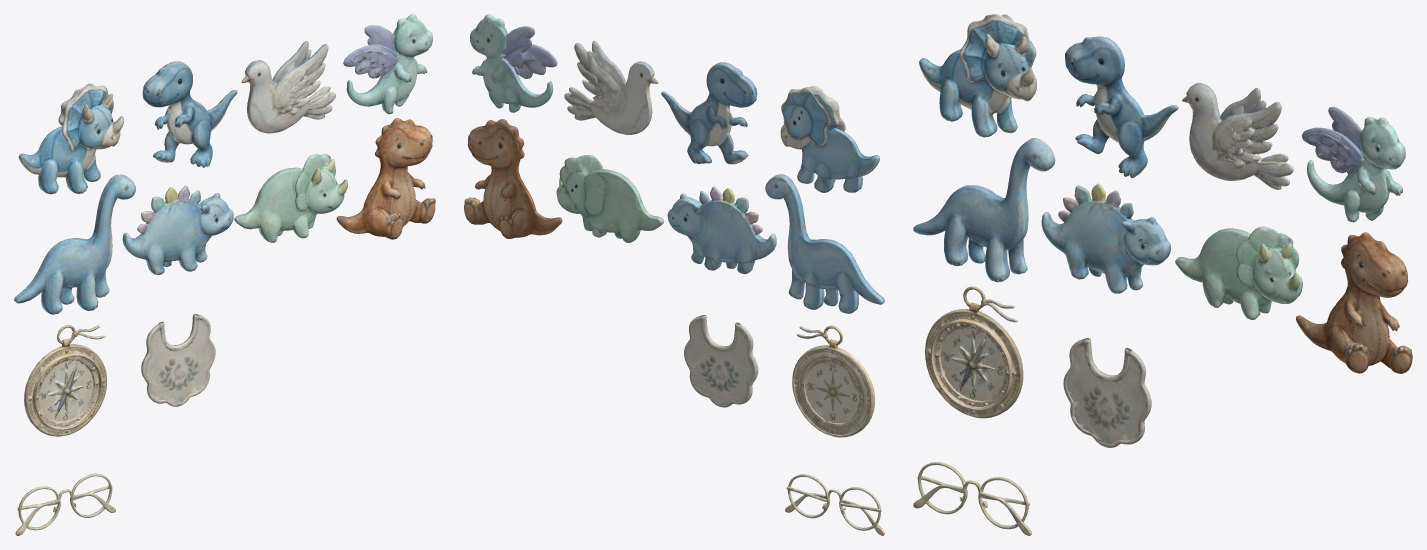
The picture shows the model from 3 angles, left to right: view 1: azimuth 30°, elevation 25°; view 2: azimuth 150°, elevation 25°; view 3: azimuth 330°, elevation 25°; orthographic projection. The views are drawn at different scales.
Visible parts, largest first — view 1: Mesh 4, Mesh 3, Mesh 1, Mesh 14, Mesh 6, Mesh 9, Mesh 10, Mesh 15, Mesh 8, Mesh 5, Mesh 2; view 2: Mesh 4, Mesh 3, Mesh 1, Mesh 14, Mesh 6, Mesh 9, Mesh 10, Mesh 15, Mesh 8, Mesh 5, Mesh 2; view 3: Mesh 3, Mesh 4, Mesh 14, Mesh 1, Mesh 6, Mesh 9, Mesh 10, Mesh 15, Mesh 8, Mesh 5, Mesh 2.
Part boxes in pixels (box(x1,y1,x2,y2)): Mesh 4: box(24, 325, 106, 436); Mesh 3: box(18, 83, 123, 194); Mesh 1: box(14, 174, 135, 314); Mesh 14: box(336, 118, 435, 239); Mesh 6: box(122, 185, 233, 274); Mesh 9: box(234, 154, 347, 242); Mesh 10: box(241, 41, 335, 133); Mesh 15: box(343, 14, 432, 114); Mesh 8: box(142, 61, 237, 167); Mesh 5: box(141, 314, 215, 406); Mesh 2: box(15, 473, 115, 535); Mesh 4: box(792, 325, 874, 437); Mesh 3: box(780, 86, 879, 192); Mesh 1: box(765, 174, 884, 313); Mesh 14: box(464, 118, 562, 238); Mesh 6: box(667, 186, 776, 274); Mesh 9: box(556, 154, 664, 242); Mesh 10: box(564, 41, 658, 134); Mesh 15: box(470, 14, 557, 112); Mesh 8: box(661, 62, 757, 164); Mesh 5: box(684, 315, 758, 407); Mesh 2: box(785, 474, 884, 535); Mesh 3: box(919, 14, 1036, 137); Mesh 4: box(925, 286, 1023, 418); Mesh 14: box(1296, 232, 1412, 373); Mesh 1: box(913, 138, 1055, 282); Mesh 6: box(1041, 183, 1170, 293); Mesh 9: box(1175, 226, 1302, 319); Mesh 10: box(1182, 83, 1293, 189); Mesh 15: box(1301, 106, 1405, 222); Mesh 8: box(1065, 36, 1178, 177); Mesh 5: box(1063, 338, 1151, 447); Mesh 2: box(913, 462, 1031, 535).
Size of the model in its own units: 1.8 by 1.78 by 0.0669.
Materials: 11 (11 with a texture image).
